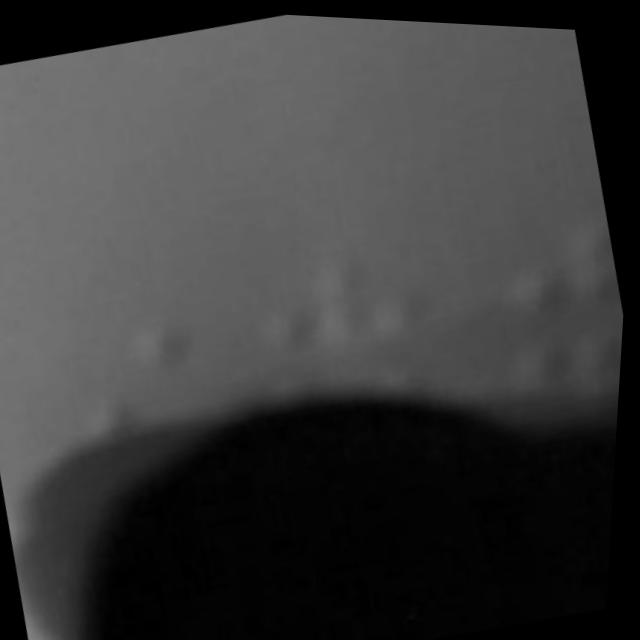braiile: (244, 245, 441, 373), (482, 213, 629, 331)
